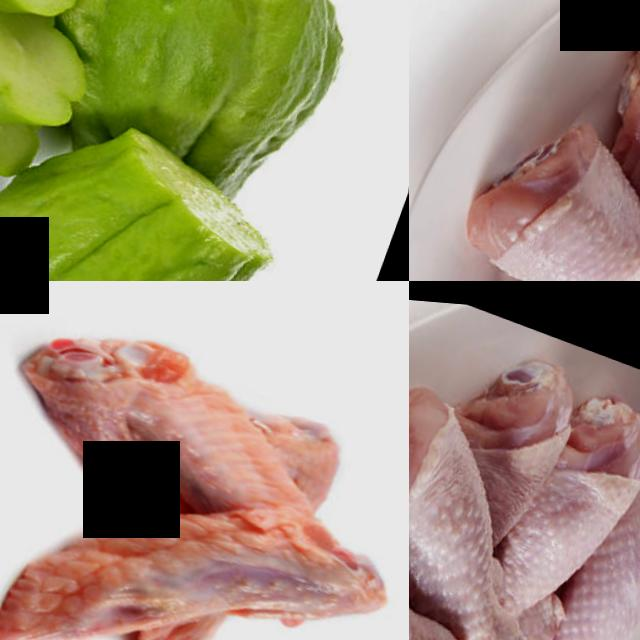chayote: (101, 0, 409, 210), (0, 115, 296, 281)
chicken thigh: (409, 383, 590, 640), (451, 120, 640, 281), (518, 440, 640, 640), (566, 4, 640, 281)
chicken wing: (0, 285, 409, 640)
